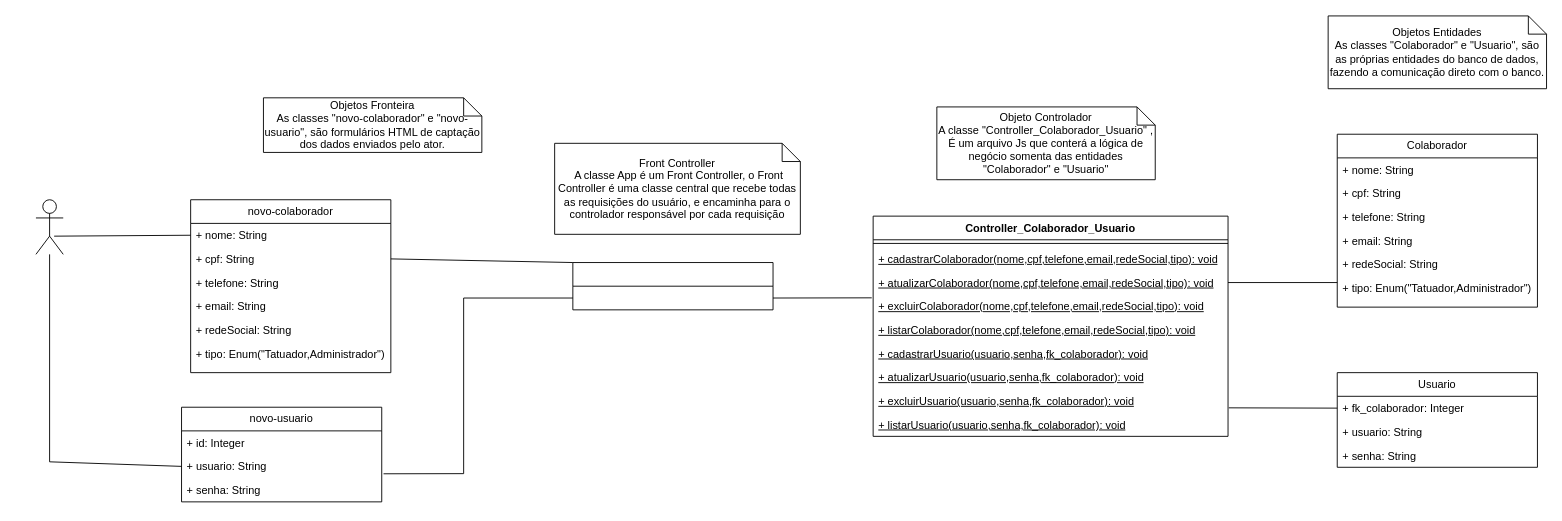
This 1562x521 diagram has some shape labels left out. Each missing label, with the centre of its shape:
Administrador: [49,226]
App: [672,286]
